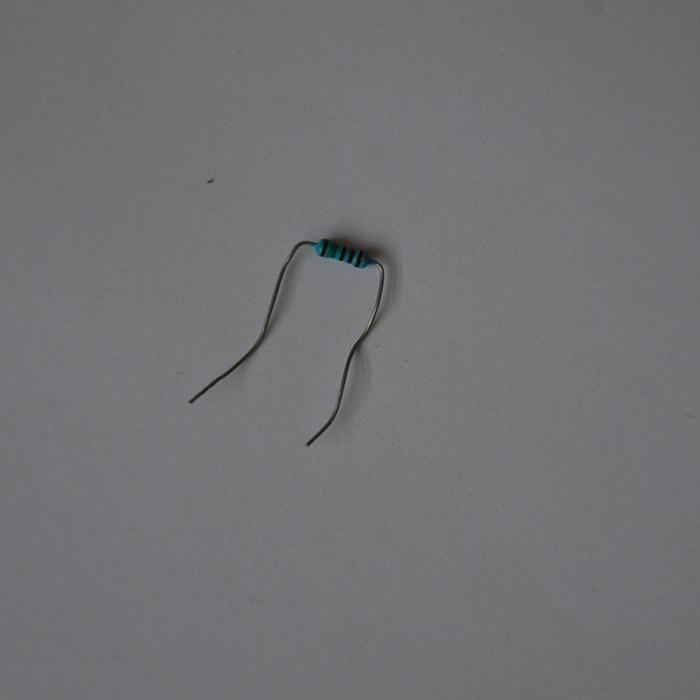resistor: (311, 238, 374, 267)
